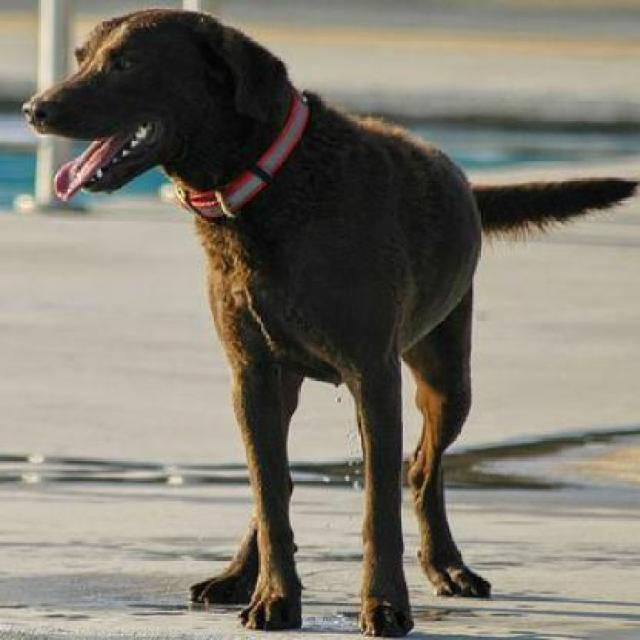Dog: (19, 6, 638, 639)
